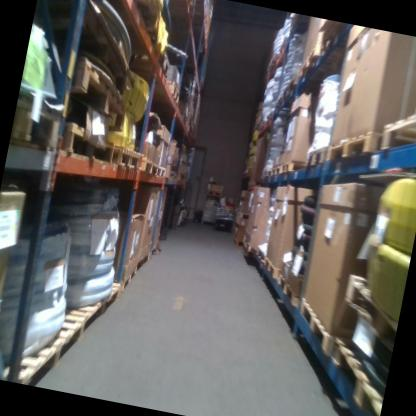pallet: (0, 303, 83, 392), (319, 335, 393, 416), (62, 52, 136, 131), (60, 272, 121, 338), (291, 294, 345, 357), (10, 93, 66, 153), (324, 121, 381, 173), (58, 117, 118, 166), (109, 0, 166, 42), (378, 98, 416, 157), (313, 20, 347, 62), (272, 273, 304, 309), (298, 42, 320, 84), (111, 144, 144, 170), (303, 143, 329, 174), (153, 43, 175, 79), (119, 260, 137, 294), (261, 255, 284, 279), (281, 74, 299, 104), (278, 158, 302, 180), (162, 78, 181, 104), (240, 236, 259, 259), (135, 248, 151, 275), (140, 156, 160, 176), (272, 93, 283, 116), (230, 234, 245, 247), (270, 163, 282, 179), (156, 164, 167, 180), (255, 247, 266, 261), (206, 188, 222, 197), (234, 210, 248, 219)
